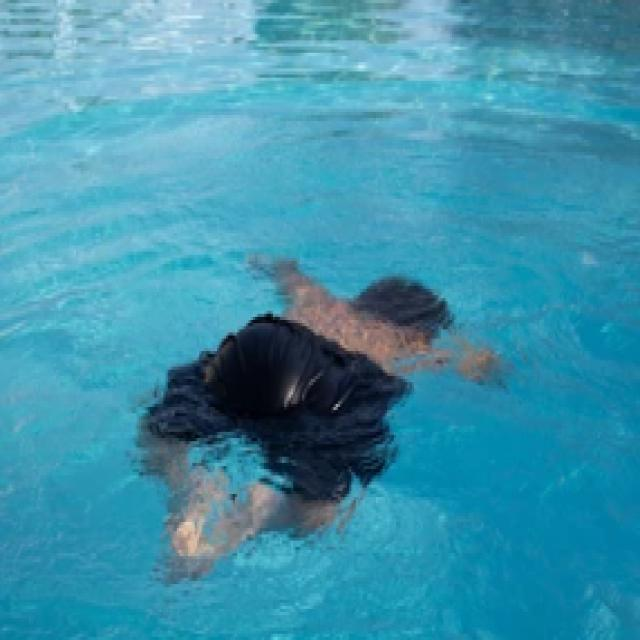Drowning: (125, 251, 505, 585)
